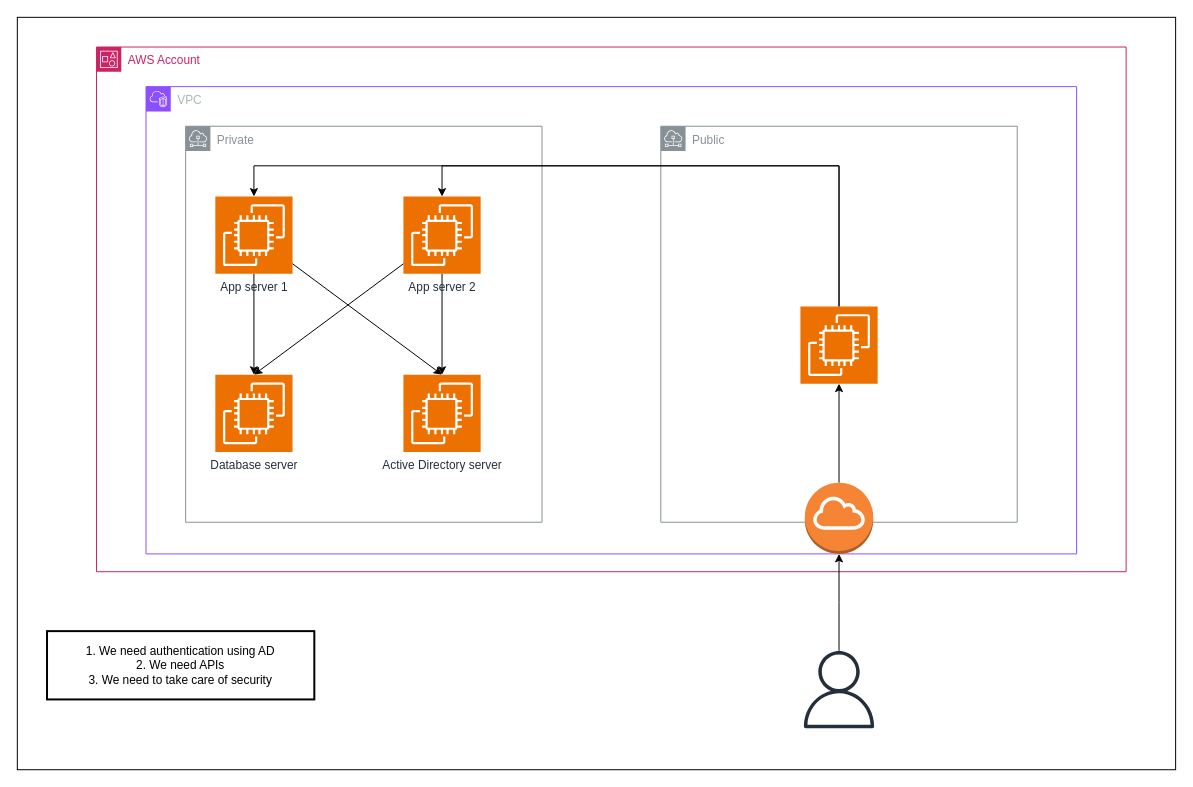
Image size: 1193x787. Some labels were removed from this diagram. Here are the shapes that lost their labels. From the top down, the centre of each, then its label:
At pixel 838 344: "Load Balancer".
At pixel 838 689: "User".
